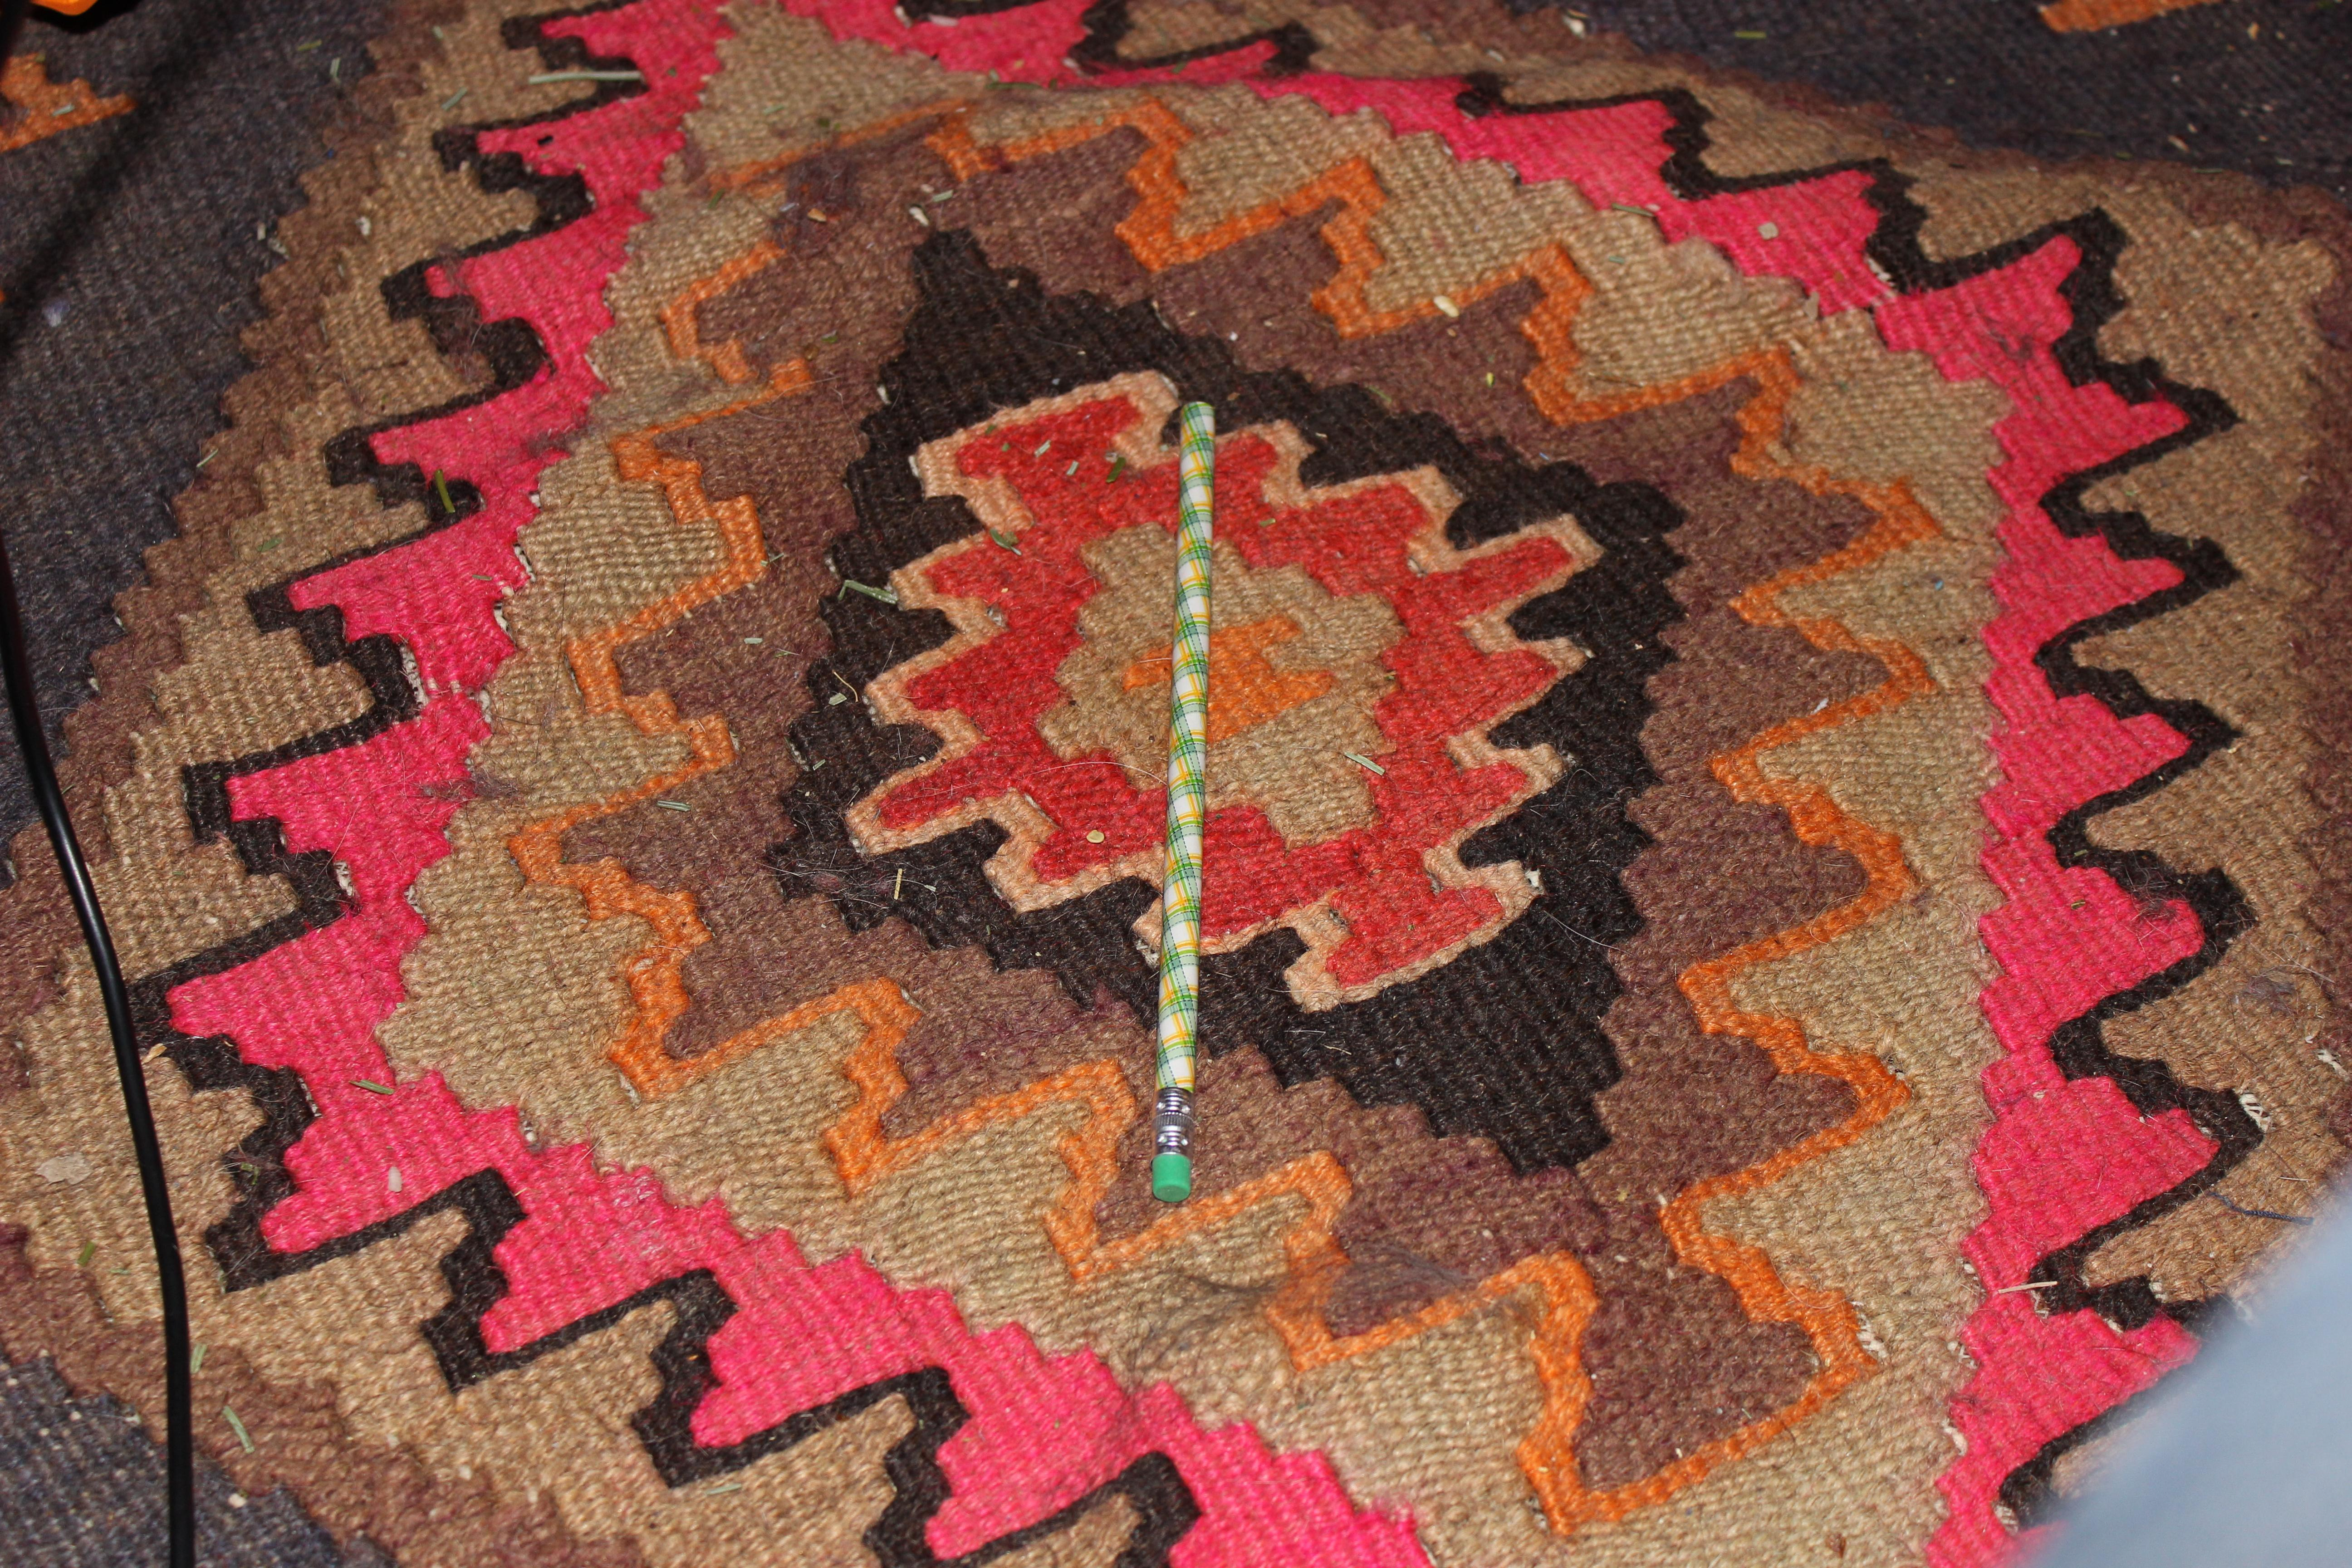plaidPencil: (1127, 380, 1239, 1218)
